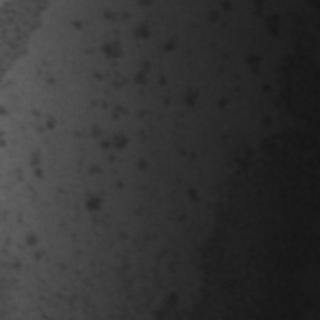pitted_surface: (184, 32, 316, 318), (54, 21, 178, 280), (1, 18, 58, 282)
